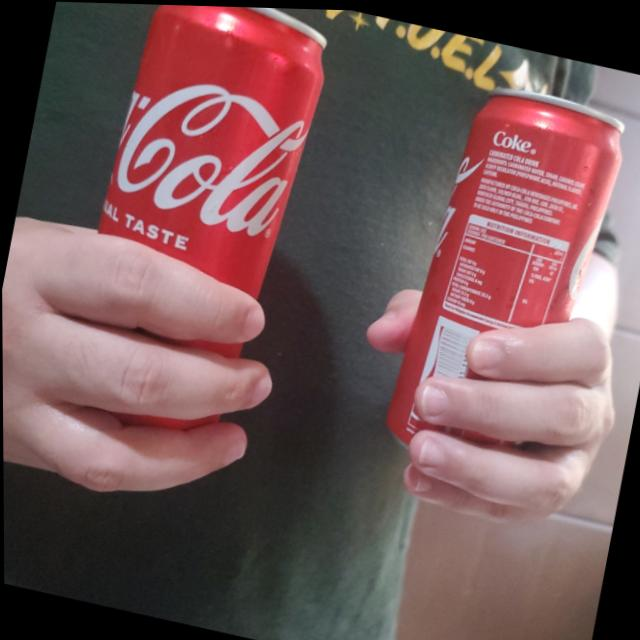coke: (55, 1, 336, 437), (375, 66, 631, 483)
